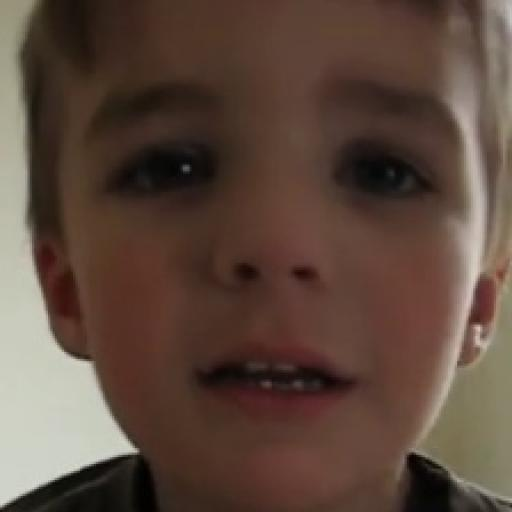Autism: (80, 4, 512, 512)
